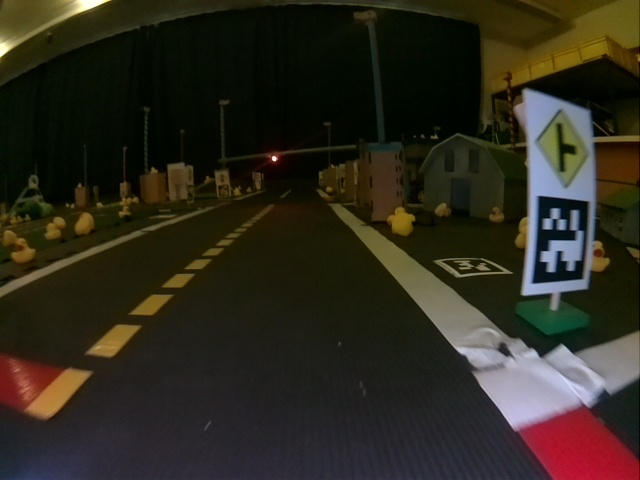Duckie: (389, 211, 415, 238), (591, 241, 610, 271), (12, 243, 36, 263), (75, 213, 94, 235), (489, 208, 503, 222), (435, 203, 450, 216)
Intersection sign: (528, 91, 593, 190)
QR code: (527, 195, 591, 293), (437, 257, 507, 276)
